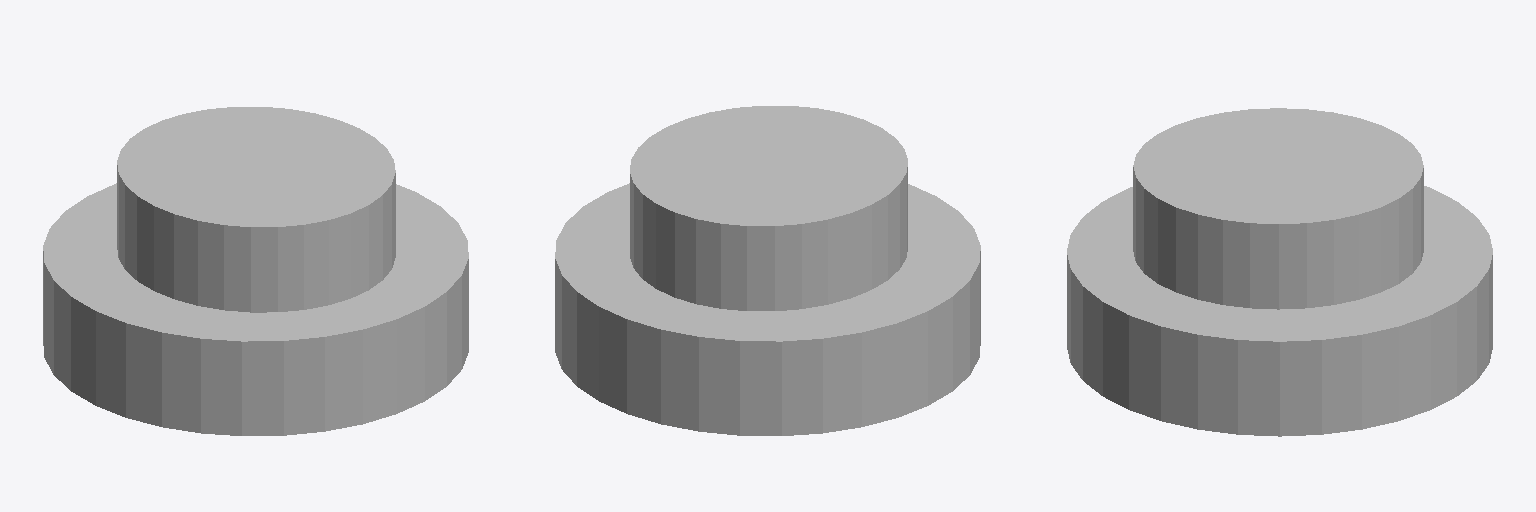
Rendered from Button.obj.
The picture shows the model from 3 angles: view 1: azimuth 30°, elevation 25°; view 2: azimuth 150°, elevation 25°; view 3: azimuth 270°, elevation 25°; orthographic projection.
Parts seen in each view (by area): view 1: Button_Cylinder; view 2: Button_Cylinder; view 3: Button_Cylinder.
Part boxes in pixels (bbox=[...]): Button_Cylinder: bbox=[43, 107, 468, 435]; Button_Cylinder: bbox=[555, 106, 980, 435]; Button_Cylinder: bbox=[1067, 108, 1492, 436].
Bounding box in the file's own units: 0.7321 × 0.3422 × 0.7321.